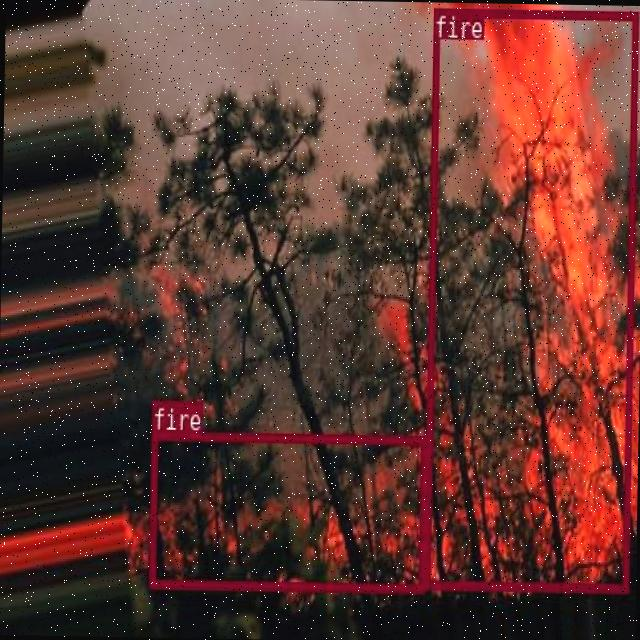fire: (423, 8, 637, 590), (147, 428, 426, 590)
